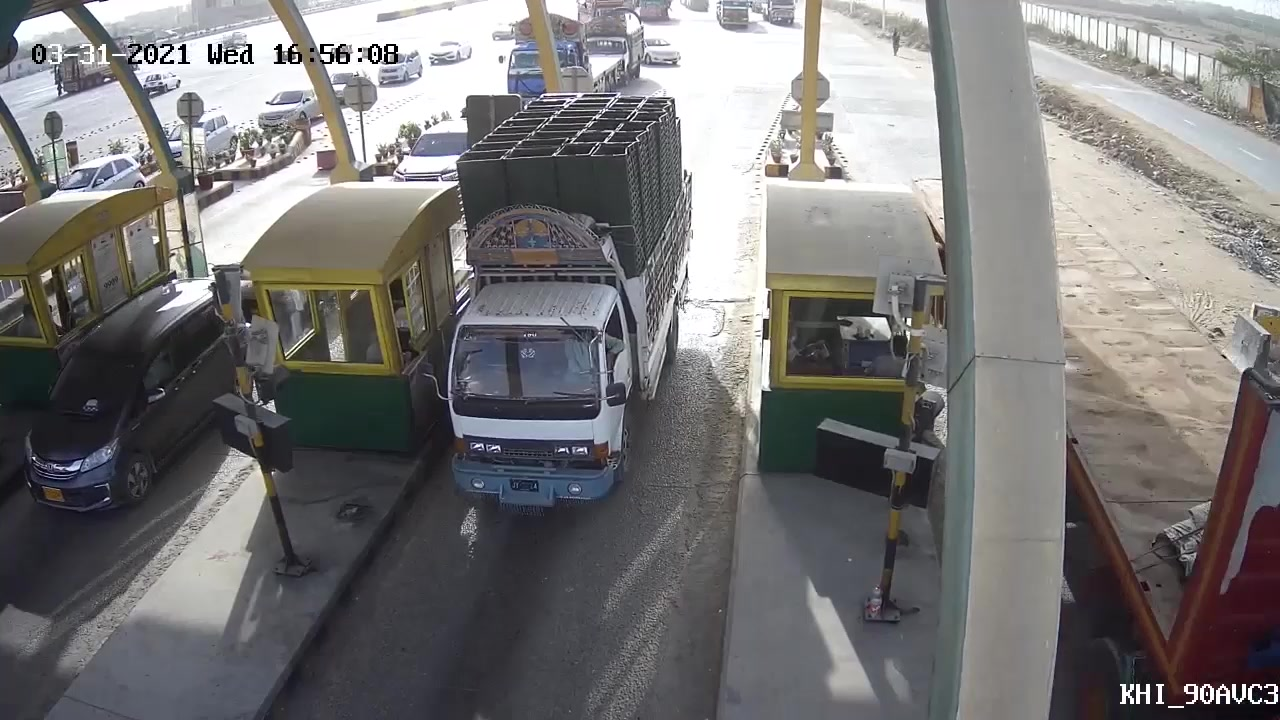F5: (411, 98, 705, 536)
